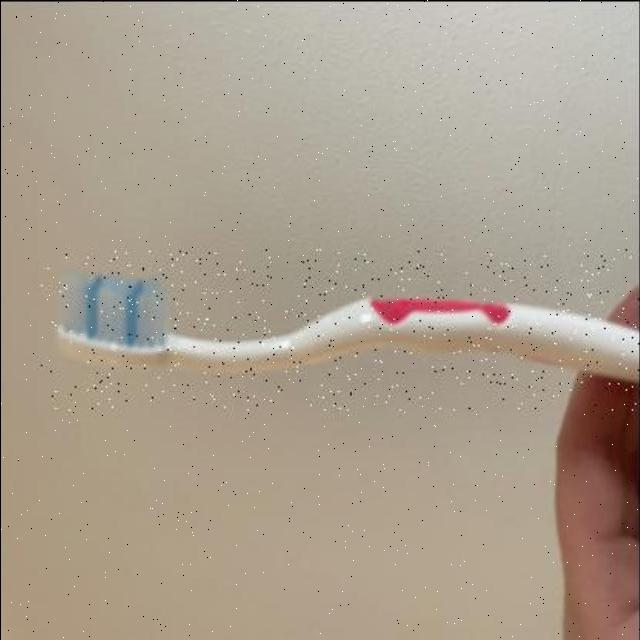toothbrush: (42, 247, 640, 408)
